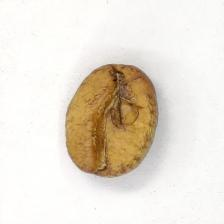NG: (73, 68, 141, 165)
